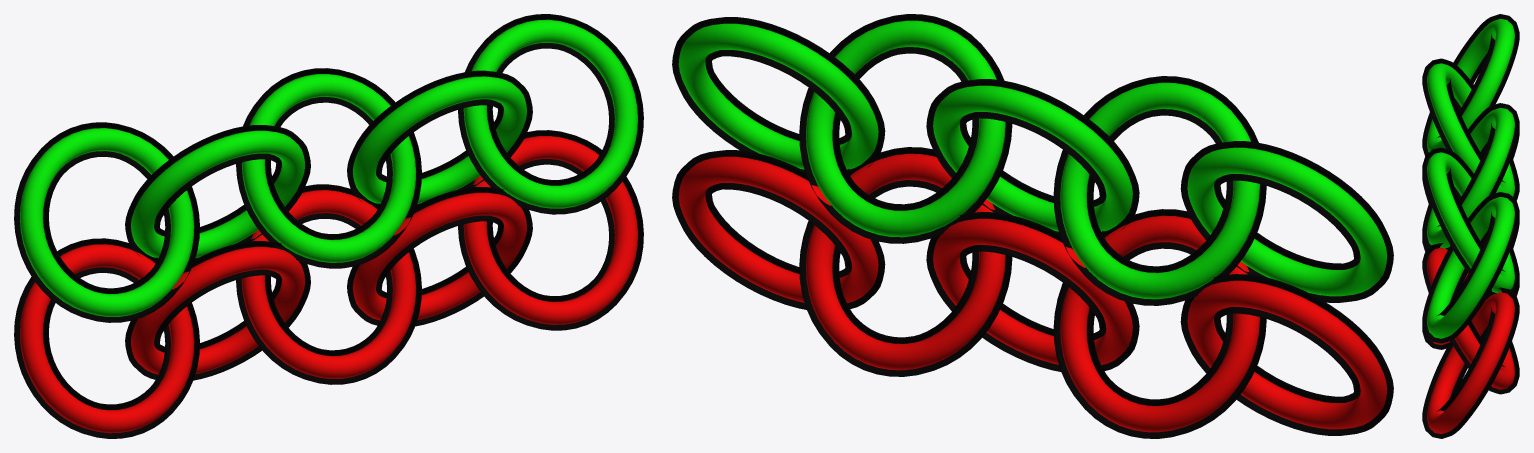
File: magus_weave_step_02.glb
3 renders of one model, left to right at view 1: azimuth 30°, elevation 25°; view 2: azimuth 150°, elevation 25°; view 3: azimuth 270°, elevation 25°, orthographic. The views are drawn at different scales.
Parts seen in each view (by area): view 1: Torus.721, Torus.725, Torus.723, Torus.730, Torus.726, Torus.728, Torus.722, Torus.724, Torus.727, Torus.729; view 2: Torus.724, Torus.722, Torus.730, Torus.729, Torus.727, Torus.725, Torus.721, Torus.726, Torus.723, Torus.728; view 3: Torus.721, Torus.726, Torus.725, Torus.722, Torus.723, Torus.724, Torus.727, Torus.728.
Part boxes in pixels (left/top/right/bottom): Torus.721: left=458, top=14, right=643, bottom=214; Torus.725: left=14, top=122, right=199, bottom=322; Torus.723: left=236, top=68, right=421, bottom=268; Torus.730: left=14, top=238, right=199, bottom=438; Torus.726: left=458, top=130, right=643, bottom=330; Torus.728: left=236, top=184, right=421, bottom=384; Torus.722: left=347, top=70, right=532, bottom=208; Torus.724: left=125, top=125, right=310, bottom=263; Torus.727: left=347, top=187, right=532, bottom=326; Torus.729: left=125, top=241, right=310, bottom=380; Torus.724: left=1053, top=76, right=1266, bottom=305; Torus.722: left=799, top=14, right=1012, bottom=243; Torus.730: left=1180, top=274, right=1393, bottom=435; Torus.729: left=1053, top=209, right=1266, bottom=438; Torus.727: left=799, top=147, right=1012, bottom=376; Torus.725: left=1180, top=141, right=1393, bottom=302; Torus.721: left=672, top=17, right=885, bottom=175; Torus.726: left=672, top=150, right=885, bottom=309; Torus.723: left=926, top=79, right=1139, bottom=237; Torus.728: left=926, top=212, right=1139, bottom=371; Torus.721: left=1422, top=192, right=1519, bottom=343; Torus.726: left=1422, top=287, right=1519, bottom=438; Torus.725: left=1422, top=14, right=1519, bottom=155; Torus.722: left=1422, top=147, right=1519, bottom=295; Torus.723: left=1422, top=103, right=1519, bottom=248; Torus.724: left=1422, top=58, right=1519, bottom=200; Torus.727: left=1422, top=243, right=1519, bottom=394; Torus.728: left=1422, top=218, right=1519, bottom=349.
Bounding box in the file's own units: 12.28 × 5.29 × 2.04.
